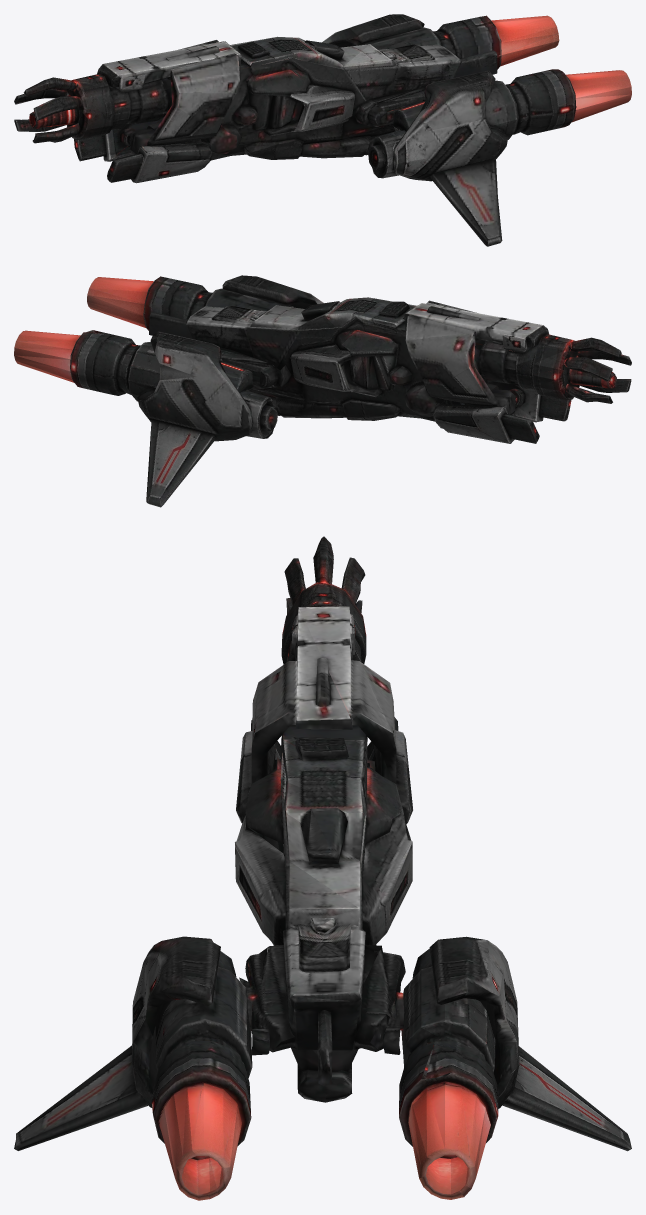
File: breacher.glb
3 renders of one model, top to bottom at view 1: azimuth 30°, elevation 25°; view 2: azimuth 150°, elevation 25°; view 3: azimuth 270°, elevation 25°, orthographic. The views are drawn at different scales.
Visible parts, largest first — view 1: mesh_node; view 2: mesh_node; view 3: mesh_node.
Part boxes in pixels (bbox=[...]): mesh_node: bbox=[14, 14, 631, 246]; mesh_node: bbox=[14, 275, 631, 507]; mesh_node: bbox=[14, 536, 631, 1200].
Size of the model in its own units: 1 by 0.3164 by 0.5683.
Materials: 1 (1 with a texture image).
